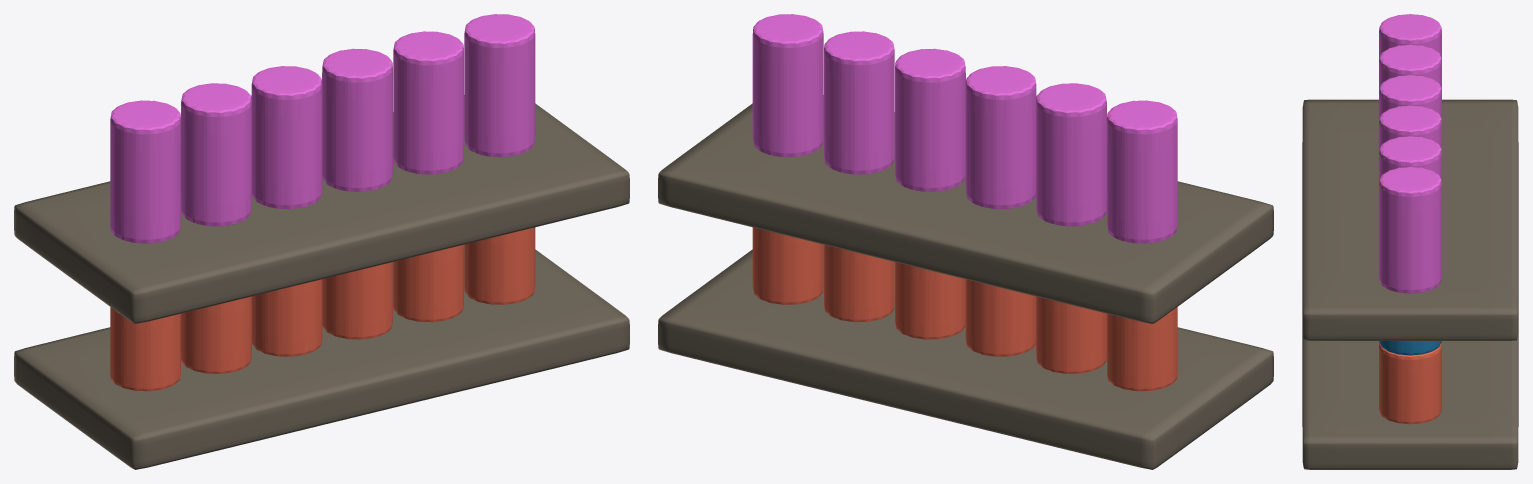
The model's file is beverage1.fbx.
3 renders of one model, left to right at view 1: azimuth 30°, elevation 25°; view 2: azimuth 150°, elevation 25°; view 3: azimuth 270°, elevation 25°, orthographic. The views are drawn at different scales.
Visible parts, largest first — view 1: beverage1; view 2: beverage1; view 3: beverage1.
Part boxes in pixels (x1,y1,x2,y2): beverage1: [14, 14, 629, 469]; beverage1: [658, 14, 1273, 469]; beverage1: [1302, 14, 1518, 469].
Bounding box in the file's own units: 637 × 363 × 271.
